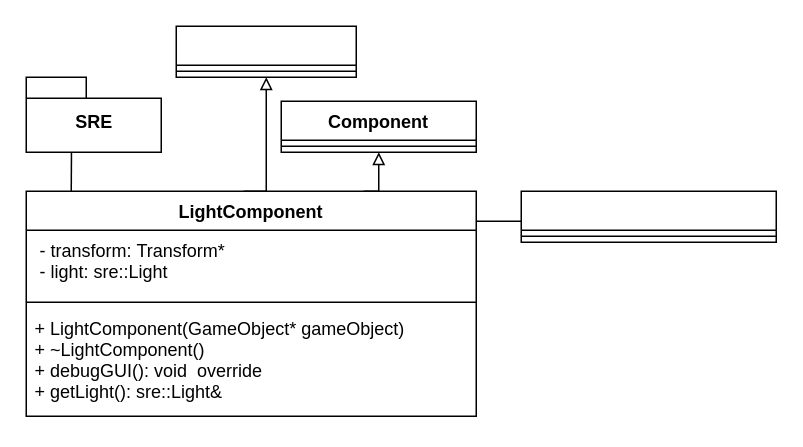
The diagram is 803 pixels wide and 447 high, and some of its shapes have lost their labels. The shapes that lost their labels are listed below. From the top down, each one's box as (x1, y1, x2, y2) in pixels, then its label:
(175, 25, 356, 77): Updatable
(520, 190, 776, 242): TransformComponent
